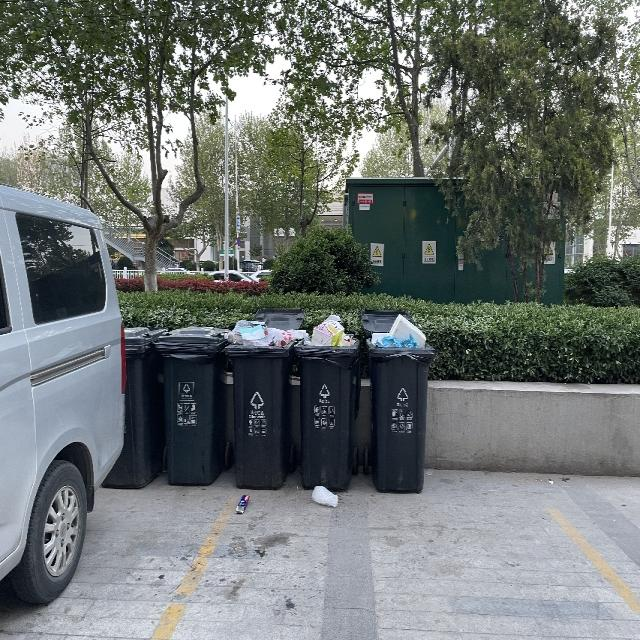garbage: (311, 485, 337, 507), (235, 493, 248, 514)
garbage_bin: (155, 325, 228, 485), (100, 326, 166, 489)
overflow: (223, 319, 305, 489), (366, 312, 436, 493), (293, 313, 361, 490)
